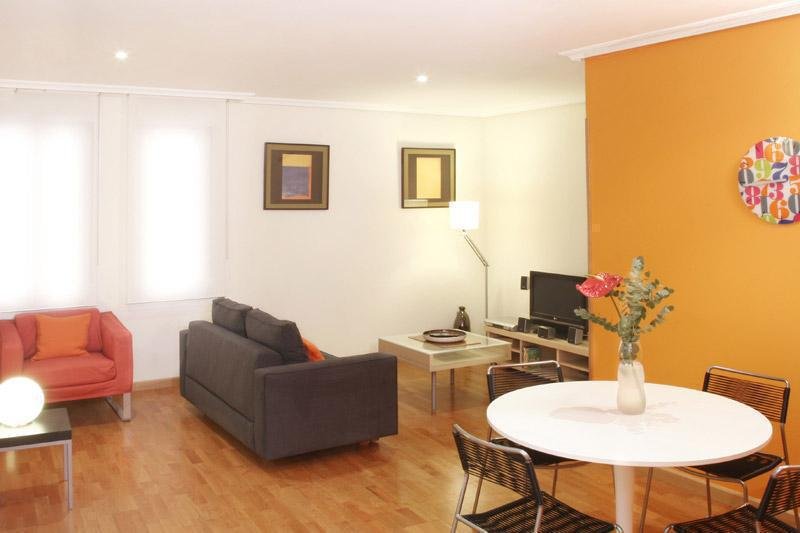Ventana: (98, 86, 226, 296), (3, 89, 96, 304)
